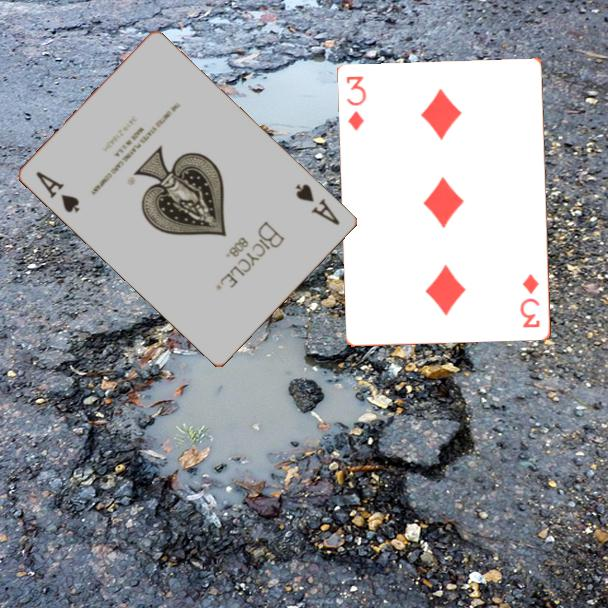d03: (517, 270, 543, 331), (343, 73, 369, 134)
s01: (292, 180, 343, 228), (33, 168, 83, 216)
